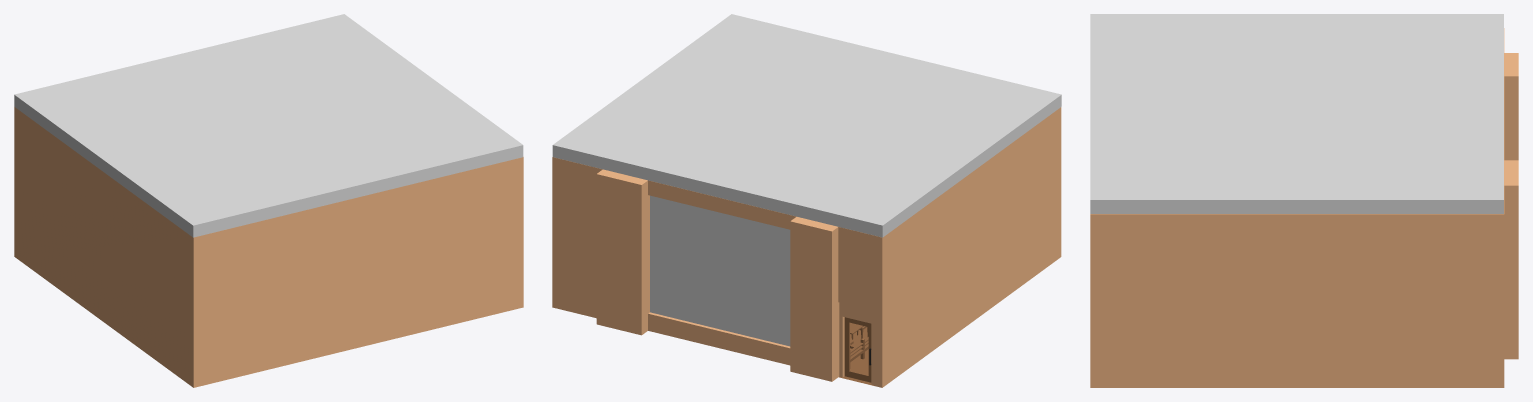
File: Restaurant_v4.fbx
3 renders of one model, left to right at view 1: azimuth 30°, elevation 25°; view 2: azimuth 150°, elevation 25°; view 3: azimuth 270°, elevation 25°, orthographic. The views are drawn at different scales.
Parts seen in each view (by area): view 1: Roof, Main Wall Back, Main Wall Right, Main Wall Left; view 2: Roof, Main Wall Front, Main Wall Right, Front Window.001, Main Wall Left, Front Door.001, Floor; view 3: Roof, Main Wall Left, Main Wall Front.
Part boxes in pixels (bbox=[...]): Roof: bbox=[14, 14, 523, 237]; Main Wall Back: bbox=[202, 158, 517, 385]; Main Wall Right: bbox=[14, 107, 201, 387]; Main Wall Left: bbox=[517, 157, 523, 308]; Roof: bbox=[552, 14, 1061, 237]; Main Wall Front: bbox=[558, 158, 873, 384]; Main Wall Right: bbox=[874, 107, 1061, 387]; Front Window.001: bbox=[650, 195, 790, 346]; Main Wall Left: bbox=[552, 157, 558, 308]; Front Door.001: bbox=[844, 317, 871, 382]; Floor: bbox=[839, 327, 873, 385]; Roof: bbox=[1090, 14, 1503, 213]; Main Wall Left: bbox=[1090, 211, 1504, 387]; Main Wall Front: bbox=[1504, 33, 1518, 359].
Size of the model in its own units: 1518 by 713 by 1475.
